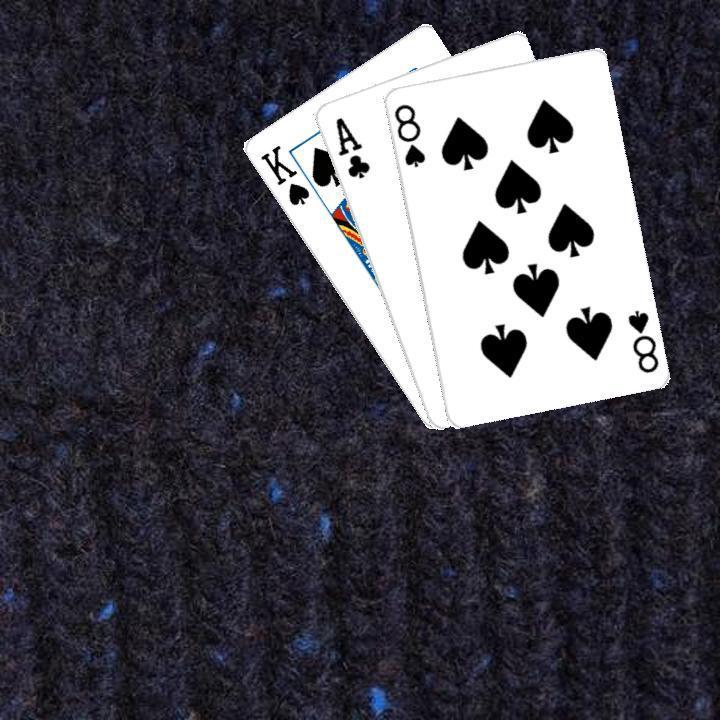8: (389, 99, 427, 169), (622, 305, 660, 375)
A: (330, 112, 372, 180)
K: (255, 140, 312, 208)
